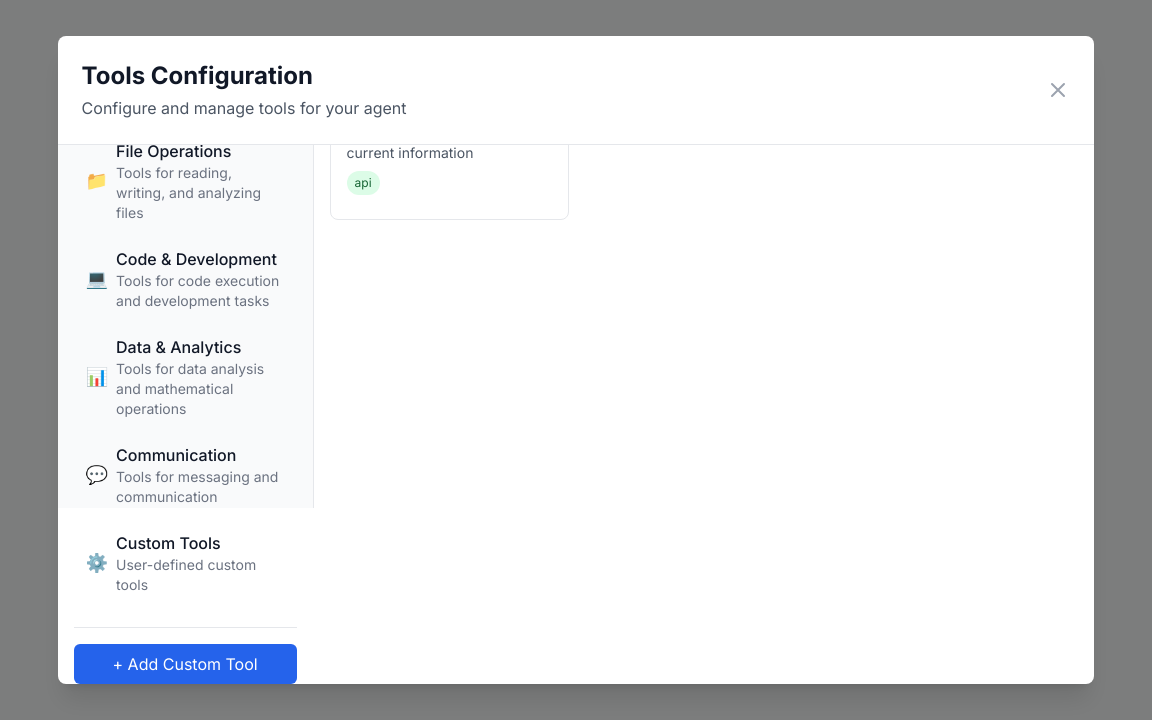
Scenario: ToolsConfigurationPanel › Custom Tool Creation › should open custom tool form when add button is clicked
The image size is (1152, 720).
(page scrolled)
Click the button with test id "add-custom-tool" at (185, 664), box top-left (74, 644), bottom-right (297, 684)
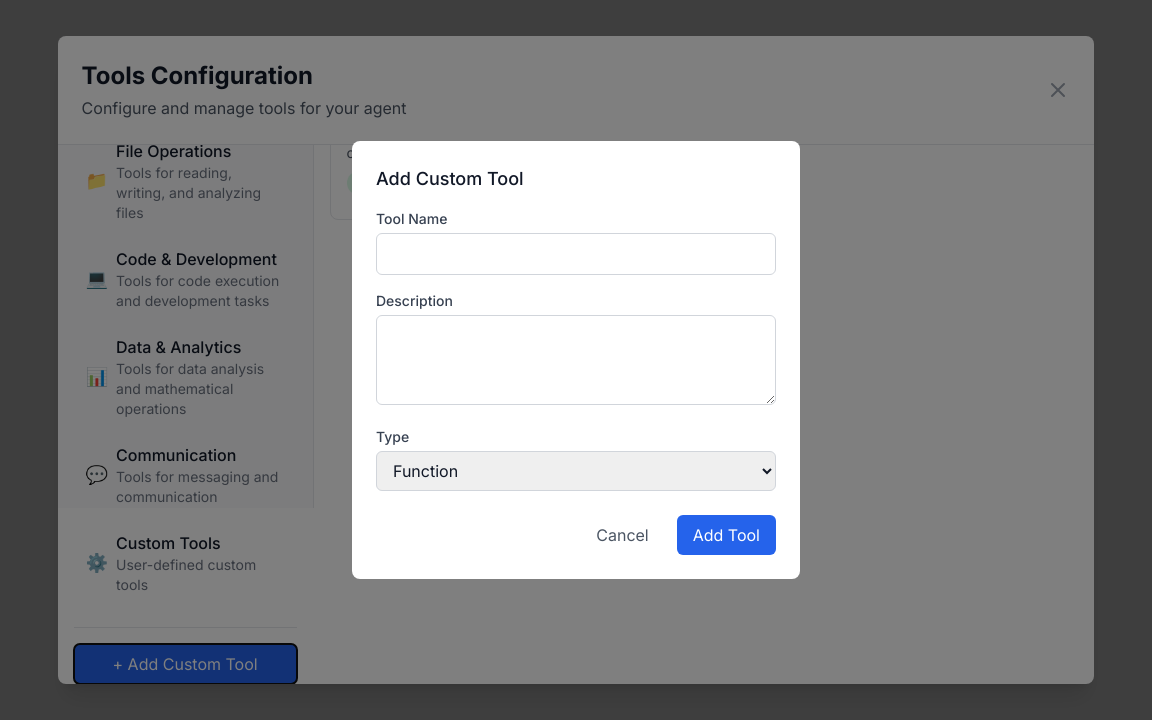
Expected: the heading "Add Custom Tool" is shown, top-left (376, 168), bottom-right (524, 189)
Expected: the field with test id "custom-tool-name" is shown, top-left (376, 233), bottom-right (776, 275)
Expected: the text box with test id "custom-tool-description" is shown, top-left (376, 315), bottom-right (776, 405)
